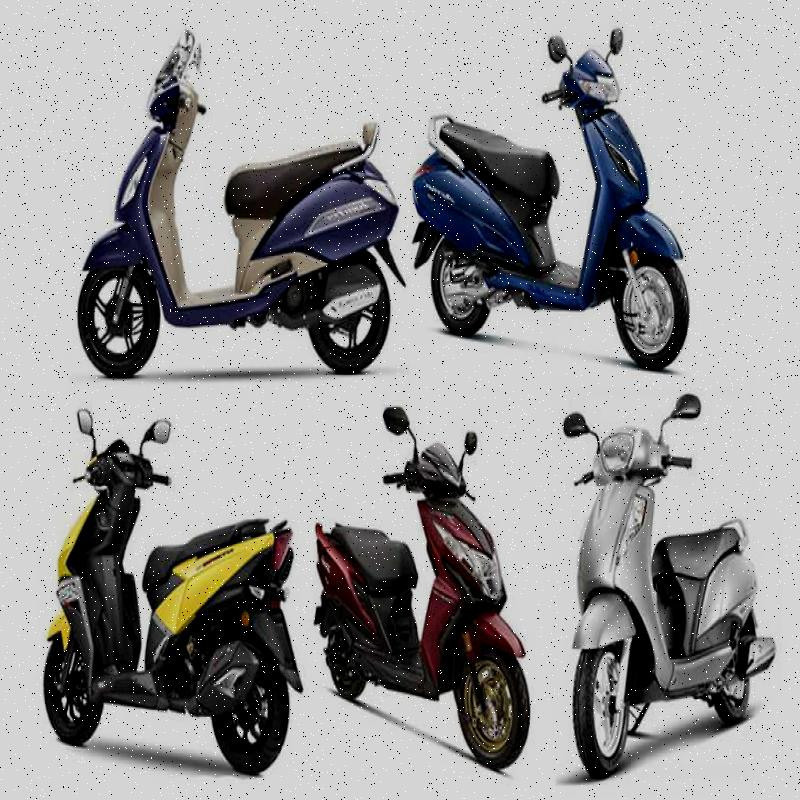bike: (57, 19, 415, 392), (407, 7, 706, 384), (28, 408, 316, 756), (549, 381, 780, 772), (313, 408, 536, 766)
